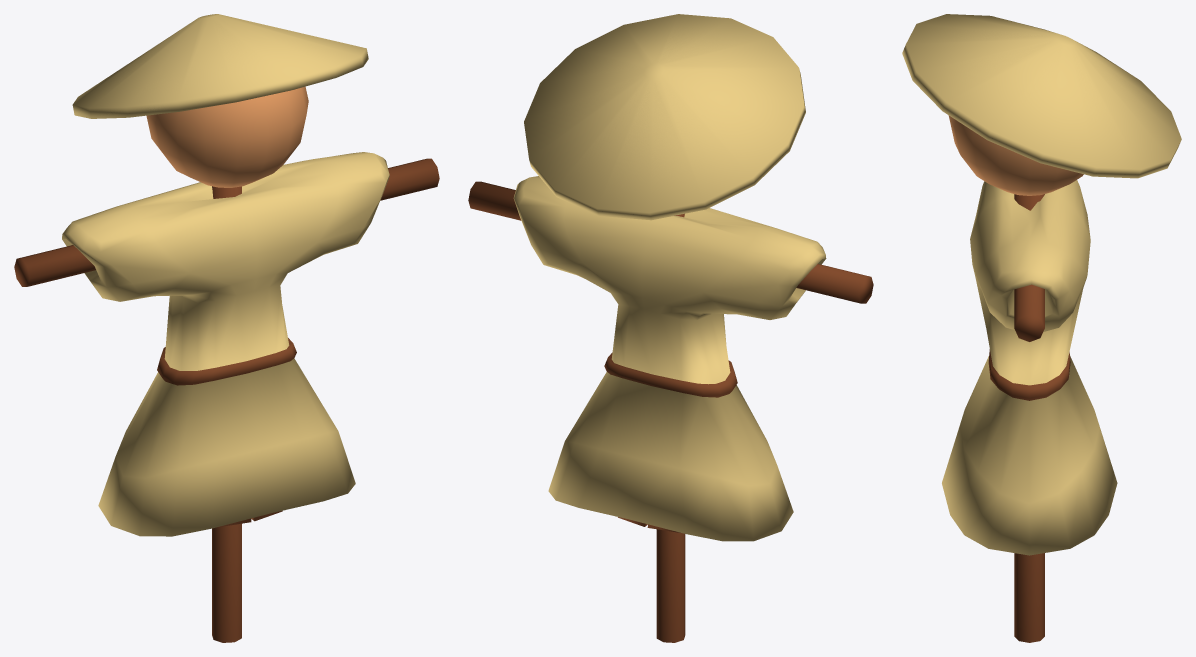
Rendered from Scarecrow (1).fbx.
3 renders of one model, left to right at view 1: azimuth 30°, elevation 25°; view 2: azimuth 150°, elevation 25°; view 3: azimuth 270°, elevation 25°, orthographic. The views are drawn at different scales.
Parts seen in each view (by area): view 1: Plane.001; view 2: Plane.001; view 3: Plane.001.
Boxes of the visible parts, x1,y1,x2,y2 form: Plane.001: (14,14,439,642); Plane.001: (468,14,873,642); Plane.001: (902,14,1181,642).
Size of the model in its own units: 204 by 291 by 123.
